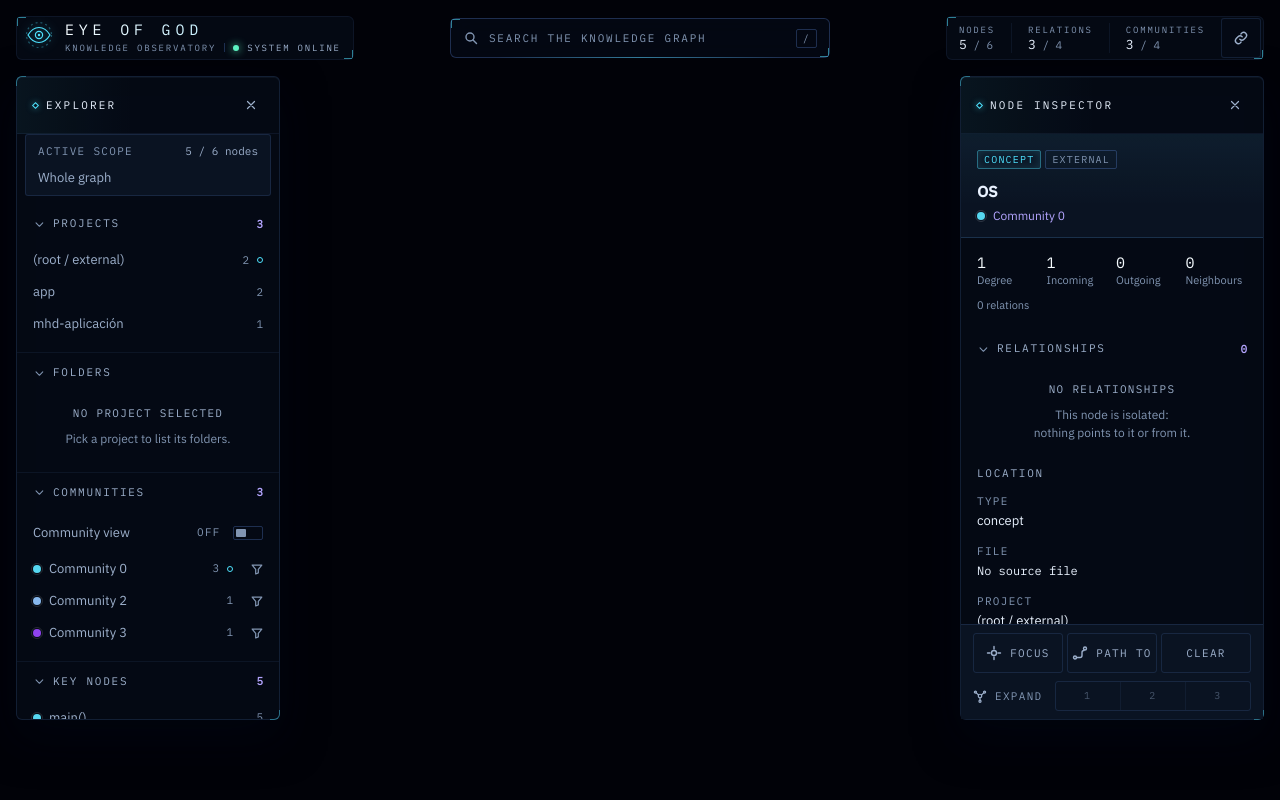
Test: filters against the selection › a scope that hides the selected node deselects it
Click the button "mhd-aplicación 1": x=148, y=324 [25,308,271,340]
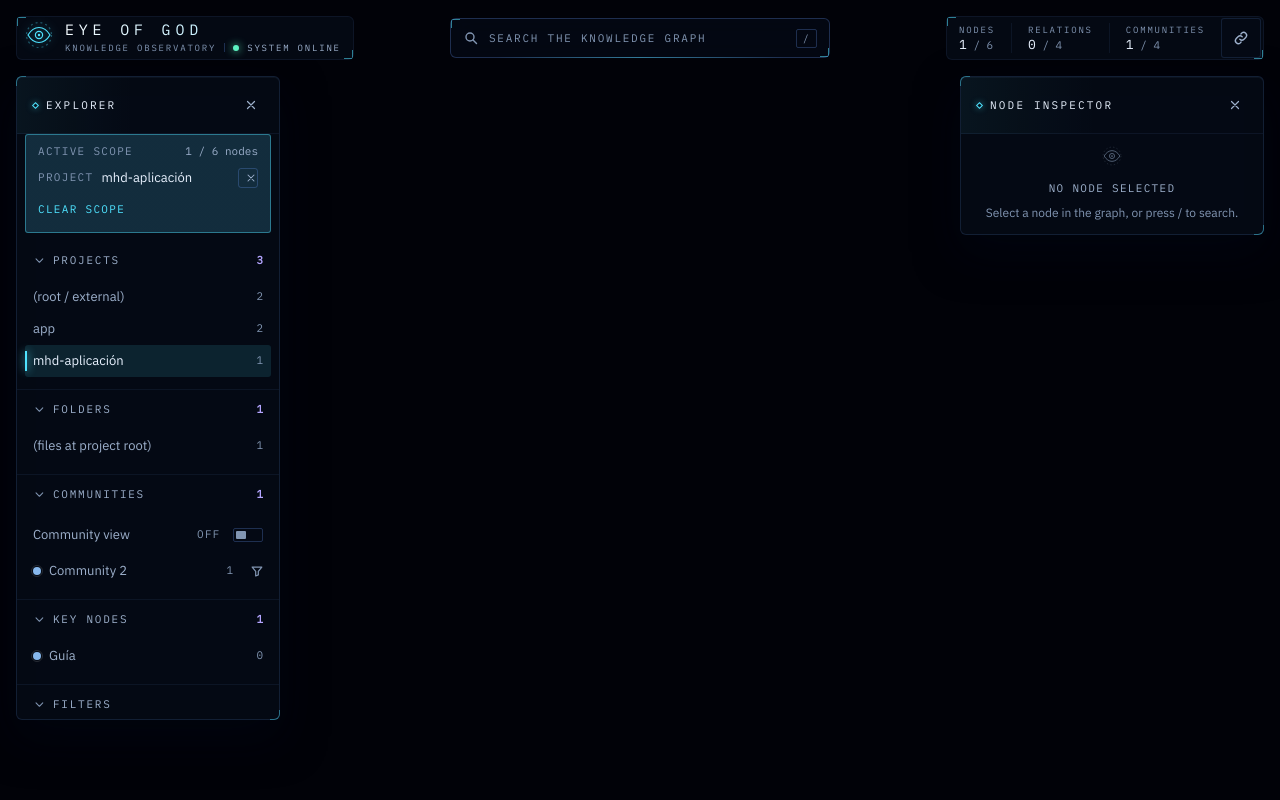
Result: the text "No node selected" is shown at [1049,180,1175,196]
